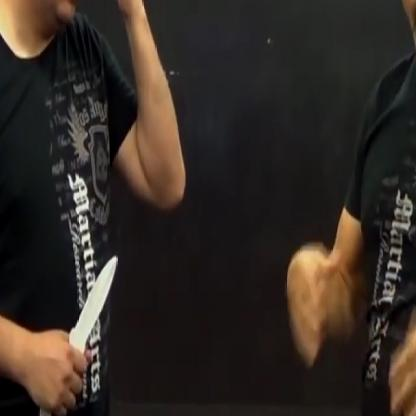knife: (29, 241, 125, 415)
